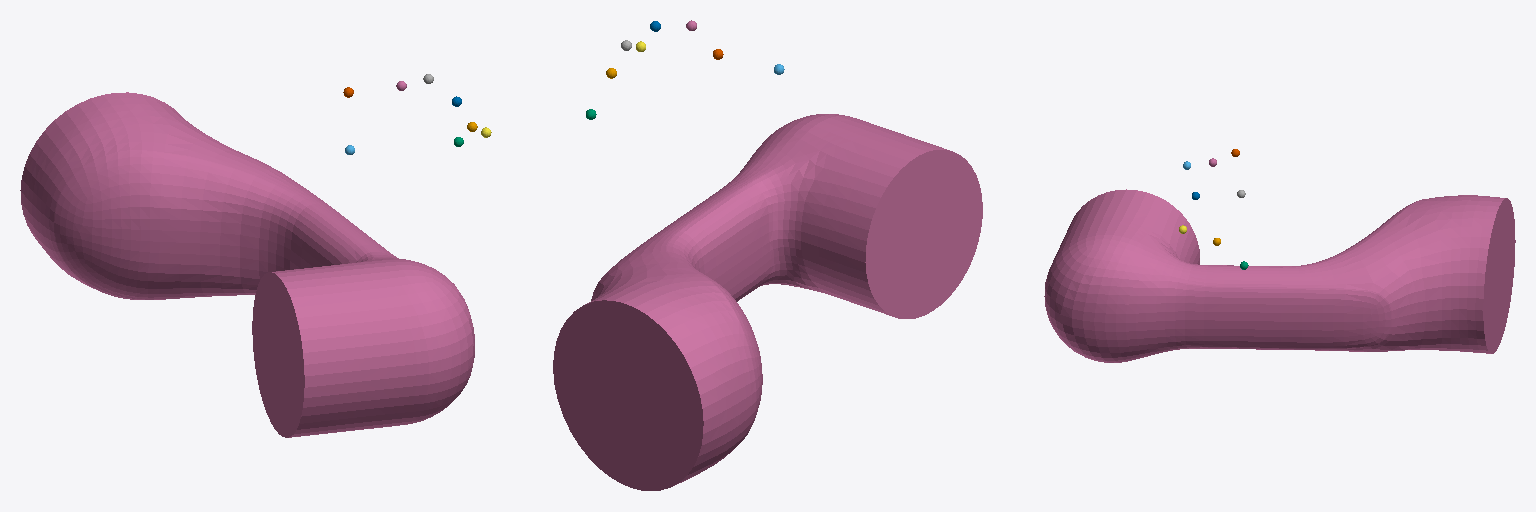
robot.urdf — fr3:
<?xml version="1.0" ?>
<!-- =================================================================================== -->
<!-- |    This document was autogenerated by xacro from fr3.urdf.xacro                 | -->
<!-- |    EDITING THIS FILE BY HAND IS NOT RECOMMENDED                                 | -->
<!-- =================================================================================== -->
<robot name="fr3">
  <!-- safety_distance: Minimum safety distance in [m] by which the collision volumes are expanded and which is enforced during robot motions -->
  <!-- arm_id: Namespace of the robot arm. Serves to differentiate between arms in case of multiple instances. -->
  <!-- joint_limits: description of the joint limits that comes from a YAML file. Example definition: ${xacro.load_yaml('$(find gentact_ros_tools)/robots/fr3/joint_limits.yaml')} -->
  <!-- kinematics: description of the kinematics that comes from a YAML file. Example definition: ${xacro.load_yaml('$(find gentact_ros_tools)/robots/fr3/kinematics.yaml')} -->
  <!-- inertials: description of the inertials that comes from a YAML file. Example definition: ${xacro.load_yaml('$(find gentact_ros_tools)/robots/fr3/inertials.yaml')} -->
  <!-- dynamics: description of the dynamics that comes from a YAML file. Example definition: ${xacro.load_yaml('$(find gentact_ros_tools)/robots/fr3/dynamics.yaml')} -->
  <link name="base">
      </link>
  <joint name="fr3_base_joint" type="fixed">
    <parent link="base"/>
    <child link="fr3_link0"/>
    <origin rpy="0 0 0" xyz="0 0 0"/>
  </joint>
  <!-- sub-link defining detailed meshes for collision with environment -->
  <link name="fr3_link0">
    <visual name="fr3_link0_visual">
      <geometry>
        <mesh filename="package://gentact_ros_tools/meshes/robot_arms/fr3/visual/link0.dae"/>
      </geometry>
    </visual>
    <collision name="fr3_link0_collision">
      <geometry>
        <mesh filename="package://gentact_ros_tools/meshes/robot_arms/fr3/collision/link0.stl"/>
      </geometry>
    </collision>
    <inertial>
      <origin rpy="0 0 0" xyz="-0.0172 0.0004 0.0745"/>
      <mass value="2.3966"/>
      <inertia ixx="0.009" ixy="0.0" ixz="0.002" iyy="0.0115" iyz="0.0" izz="0.0085"/>
    </inertial>
  </link>
  <!-- sub-link defining detailed meshes for collision with environment -->
  <link name="fr3_link1">
    <visual name="fr3_link1_visual">
      <geometry>
        <mesh filename="package://gentact_ros_tools/meshes/robot_arms/fr3/visual/link1.dae"/>
      </geometry>
    </visual>
    <collision name="fr3_link1_collision">
      <geometry>
        <mesh filename="package://gentact_ros_tools/meshes/robot_arms/fr3/collision/link1.stl"/>
      </geometry>
    </collision>
    <inertial>
      <origin rpy="0 0 0" xyz="0.0000004128 -0.0181251324 -0.0386035970"/>
      <mass value="2.9274653454"/>
      <inertia ixx="0.023927316485107913" ixy="1.3317903455714081e-05" ixz="-0.00011404774918616684" iyy="0.0224821613275756" iyz="-0.0019950320628240115" izz="0.006350098258530016"/>
    </inertial>
  </link>
  <joint name="fr3_joint1" type="revolute">
    <origin rpy="0 0 0" xyz="0 0 0.333"/>
    <parent link="fr3_link0"/>
    <child link="fr3_link1"/>
    <axis xyz="0 0 1"/>
    <limit effort="87.0" lower="-2.7437" upper="2.7437" velocity="2.62"/>
    <safety_controller k_position="100.0" k_velocity="40.0" soft_lower_limit="-2.7437" soft_upper_limit="2.7437"/>
    <dynamics D="1" K="7000" damping="0.003" friction="0.2" mu_coulomb="0" mu_viscous="16"/>
  </joint>
  <!-- sub-link defining detailed meshes for collision with environment -->
  <link name="fr3_link2">
    <visual name="fr3_link2_visual">
      <geometry>
        <mesh filename="package://gentact_ros_tools/meshes/robot_arms/fr3/visual/link2.dae"/>
      </geometry>
    </visual>
    <collision name="fr3_link2_collision">
      <geometry>
        <mesh filename="package://gentact_ros_tools/meshes/robot_arms/fr3/collision/link2.stl"/>
      </geometry>
    </collision>
    <inertial>
      <origin rpy="0 0 0" xyz="0.0031828864 -0.0743221644 0.0088146084"/>
      <mass value="2.9355370338"/>
      <inertia ixx="0.041938946257609425" ixy="0.00020257331521090626" ixz="0.004077784227179924" iyy="0.02514514885014724" iyz="-0.0042252158006570156" izz="0.06170214472888839"/>
    </inertial>
  </link>
  <joint name="fr3_joint2" type="revolute">
    <origin rpy="-1.570796326794897 0 0" xyz="0 0 0"/>
    <parent link="fr3_link1"/>
    <child link="fr3_link2"/>
    <axis xyz="0 0 1"/>
    <limit effort="87.0" lower="-1.7837" upper="1.7837" velocity="2.62"/>
    <safety_controller k_position="100.0" k_velocity="40.0" soft_lower_limit="-1.7837" soft_upper_limit="1.7837"/>
    <dynamics D="1" K="7000" damping="0.003" friction="0.2" mu_coulomb="0" mu_viscous="16"/>
  </joint>
  <!-- sub-link defining detailed meshes for collision with environment -->
  <link name="fr3_link3">
    <visual name="fr3_link3_visual">
      <geometry>
        <mesh filename="package://gentact_ros_tools/meshes/robot_arms/fr3/visual/link3.dae"/>
      </geometry>
    </visual>
    <collision name="fr3_link3_collision">
      <geometry>
        <mesh filename="package://gentact_ros_tools/meshes/robot_arms/fr3/collision/link3.stl"/>
      </geometry>
    </collision>
    <inertial>
      <origin rpy="0 0 0" xyz="0.0407015686 -0.0048200565 -0.0289730823"/>
      <mass value="2.2449013699"/>
      <inertia ixx="0.02410142547240885" ixy="0.002404694559042109" ixz="-0.002856269270114313" iyy="0.01974053266708178" iyz="-0.002104212683891874" izz="0.019044494482244823"/>
    </inertial>
  </link>
  <joint name="fr3_joint3" type="revolute">
    <origin rpy="1.570796326794897 0 0" xyz="0 -0.316 0"/>
    <parent link="fr3_link2"/>
    <child link="fr3_link3"/>
    <axis xyz="0 0 1"/>
    <limit effort="87.0" lower="-2.9007" upper="2.9007" velocity="2.62"/>
    <safety_controller k_position="100.0" k_velocity="40.0" soft_lower_limit="-2.9007" soft_upper_limit="2.9007"/>
    <dynamics D="1" K="7000" damping="0.003" friction="0.2" mu_coulomb="0" mu_viscous="16"/>
  </joint>
  <!-- sub-link defining detailed meshes for collision with environment -->
  <link name="fr3_link4">
    <visual name="fr3_link4_visual">
      <geometry>
        <mesh filename="package://gentact_ros_tools/meshes/robot_arms/fr3/visual/link4.dae"/>
      </geometry>
    </visual>
    <collision name="fr3_link4_collision">
      <geometry>
        <mesh filename="package://gentact_ros_tools/meshes/robot_arms/fr3/collision/link4.stl"/>
      </geometry>
    </collision>
    <inertial>
      <origin rpy="0 0 0" xyz="-0.0459100965 0.0630492960 -0.0085187868"/>
      <mass value="2.6155955791"/>
      <inertia ixx="0.03452998321913202" ixy="0.01322552265982813" ixz="0.01015142998484113" iyy="0.028881621933049058" iyz="-0.0009762833870704552" izz="0.04125471171146641"/>
    </inertial>
  </link>
  <joint name="fr3_joint4" type="revolute">
    <origin rpy="1.570796326794897 0 0" xyz="0.0825 0 0"/>
    <parent link="fr3_link3"/>
    <child link="fr3_link4"/>
    <axis xyz="0 0 1"/>
    <limit effort="87.0" lower="-3.0421" upper="-0.1518" velocity="2.62"/>
    <safety_controller k_position="100.0" k_velocity="40.0" soft_lower_limit="-3.0421" soft_upper_limit="-0.1518"/>
    <dynamics D="1" K="7000" damping="0.003" friction="0.2" mu_coulomb="0" mu_viscous="16"/>
  </joint>
  <!-- sub-link defining detailed meshes for collision with environment -->
  <link name="fr3_link5">
    <visual name="fr3_link5_visual">
      <geometry>
        <mesh filename="package://gentact_ros_tools/meshes/robot_arms/fr3/visual/link5.dae"/>
      </geometry>
    </visual>
    <collision name="fr3_link5_collision">
      <geometry>
        <mesh filename="package://gentact_ros_tools/meshes/robot_arms/fr3/collision/link5.stl"/>
      </geometry>
    </collision>
    <inertial>
      <origin rpy="0 0 0" xyz="-0.0016039605 0.0292536262 -0.0972965990"/>
      <mass value="2.3271207594"/>
      <inertia ixx="0.051610278463662895" ixy="-0.005715173387783472" ixz="-0.0035673167625872135" iyy="0.04787729713371481" iyz="0.010673985108535986" izz="0.016423625579357254"/>
    </inertial>
  </link>
  <joint name="fr3_joint5" type="revolute">
    <origin rpy="-1.570796326794897 0 0" xyz="-0.0825 0.384 0"/>
    <parent link="fr3_link4"/>
    <child link="fr3_link5"/>
    <axis xyz="0 0 1"/>
    <limit effort="12.0" lower="-2.8065" upper="2.8065" velocity="5.26"/>
    <safety_controller k_position="100.0" k_velocity="40.0" soft_lower_limit="-2.8065" soft_upper_limit="2.8065"/>
    <dynamics D="1" K="7000" damping="0.003" friction="0.2" mu_coulomb="0" mu_viscous="16"/>
  </joint>
  
  <!-- sub-link defining detailed meshes for collision with environment -->
  <link name="fr3_link6">
    <visual name="fr3_link6_visual">
      <geometry>
        <mesh filename="package://gentact_ros_tools/meshes/robot_arms/fr3/visual/link6.dae"/>
      </geometry>
    </visual>
    <collision name="fr3_link6_collision">
      <geometry>
        <mesh filename="package://gentact_ros_tools/meshes/robot_arms/fr3/collision/link6.stl"/>
      </geometry>
    </collision>
    <inertial>
      <origin rpy="0 0 0" xyz="0.0597131221 -0.0410294666 -0.0101692726"/>
      <mass value="1.8170376524"/>
      <inertia ixx="0.005412333594383447" ixy="0.006193456360285834" ixz="0.0014219289306117652" iyy="0.014058329545509979" iyz="-0.0013140753741120031" izz="0.016080817924212554"/>
    </inertial>
  </link>
  <joint name="fr3_joint6" type="revolute">
    <origin rpy="1.570796326794897 0 0" xyz="0 0 0"/>
    <parent link="fr3_link5"/>
    <child link="fr3_link6"/>
    <axis xyz="0 0 1"/>
    <limit effort="12.0" lower="0.5445" upper="4.5169" velocity="4.18"/>
    <safety_controller k_position="100.0" k_velocity="40.0" soft_lower_limit="0.5445" soft_upper_limit="4.5169"/>
    <dynamics D="1" K="7000" damping="0.003" friction="0.2" mu_coulomb="0" mu_viscous="16"/>
  </joint>

    <!-- Sensor links -->
  <!-- [m] -->
  <link name="fr3_link6_skin"/>
  <joint name="fr3_link6_base_joint" type="fixed">
    <origin rpy="0 0 0" xyz="0 0 0"/>
    <parent link="fr3_link6"/>
    <child link="fr3_link6_skin"/>
  </joint>
  <joint name="fr3_link6_skin_joint" type="fixed">
    <origin rpy="0 0 0" xyz="0 0 0"/>
    <parent link="fr3_link6_skin"/>
    <child link="fr3_link6_skin_inertia"/>
  </joint>
  <link name="fr3_link6_skin_inertia">
    <visual>
      <origin rpy="0 0 0" xyz="0 0 0"/>
      <geometry>
        <mesh filename="package://gentact_ros_tools/meshes/skin/link6_fancy.stl" scale="1 1 1"/>
      </geometry>
    </visual>
  </link>
  <joint name="fr3_link6_sensor_0_joint" type="fixed">
    <origin rpy="1.582 0.000 0.494" xyz="0.117 -0.045 -0.004"/>
    <axis xyz="0.474 -0.881 -0.011"/>
    <parent link="fr3_link6_skin"/>
    <child link="fr3_link6_sensor_0"/>
  </joint>
  <link name="fr3_link6_sensor_0">
    <visual>
      <geometry>
        <sphere radius="0.003"/>
        <!-- [m] -->
      </geometry>
    </visual>
    <collision>
      <geometry>
        <sphere radius="0.003"/>
        <!-- [m] -->
      </geometry>
    </collision>
  </link>
  <joint name="fr3_link6_sensor_1_joint" type="fixed">
    <origin rpy="1.451 0.000 1.101" xyz="0.133 -0.025 0.039"/>
    <axis xyz="0.885 -0.449 0.12"/>
    <parent link="fr3_link6_skin"/>
    <child link="fr3_link6_sensor_1"/>
  </joint>
  <link name="fr3_link6_sensor_1">
    <visual>
      <geometry>
        <sphere radius="0.003"/>
        <!-- [m] -->
      </geometry>
    </visual>
    <collision>
      <geometry>
        <sphere radius="0.003"/>
        <!-- [m] -->
      </geometry>
    </collision>
  </link>
  <joint name="fr3_link6_sensor_2_joint" type="fixed">
    <origin rpy="1.487 -0.000 1.464" xyz="0.140 -0.002 0.030"/>
    <axis xyz="0.991 -0.106 0.084"/>
    <parent link="fr3_link6_skin"/>
    <child link="fr3_link6_sensor_2"/>
  </joint>
  <link name="fr3_link6_sensor_2">
    <visual>
      <geometry>
        <sphere radius="0.003"/>
        <!-- [m] -->
      </geometry>
    </visual>
    <collision>
      <geometry>
        <sphere radius="0.003"/>
        <!-- [m] -->
      </geometry>
    </collision>
  </link>
  <joint name="fr3_link6_sensor_3_joint" type="fixed">
    <origin rpy="1.585 -0.000 2.644" xyz="0.113 0.047 0.002"/>
    <axis xyz="0.477 0.879 -0.015"/>
    <parent link="fr3_link6_skin"/>
    <child link="fr3_link6_sensor_3"/>
  </joint>
  <link name="fr3_link6_sensor_3">
    <visual>
      <geometry>
        <sphere radius="0.003"/>
        <!-- [m] -->
      </geometry>
    </visual>
    <collision>
      <geometry>
        <sphere radius="0.003"/>
        <!-- [m] -->
      </geometry>
    </collision>
  </link>
  <joint name="fr3_link6_sensor_4_joint" type="fixed">
    <origin rpy="1.533 -0.000 2.048" xyz="0.132 0.029 0.018"/>
    <axis xyz="0.888 0.459 0.037"/>
    <parent link="fr3_link6_skin"/>
    <child link="fr3_link6_sensor_4"/>
  </joint>
  <link name="fr3_link6_sensor_4">
    <visual>
      <geometry>
        <sphere radius="0.003"/>
        <!-- [m] -->
      </geometry>
    </visual>
    <collision>
      <geometry>
        <sphere radius="0.003"/>
        <!-- [m] -->
      </geometry>
    </collision>
  </link>
  <joint name="fr3_link6_sensor_5_joint" type="fixed">
    <origin rpy="1.581 -0.000 1.470" xyz="0.141 -0.001 -0.002"/>
    <axis xyz="0.995 -0.1 -0.01"/>
    <parent link="fr3_link6_skin"/>
    <child link="fr3_link6_sensor_5"/>
  </joint>
  <link name="fr3_link6_sensor_5">
    <visual>
      <geometry>
        <sphere radius="0.003"/>
        <!-- [m] -->
      </geometry>
    </visual>
    <collision>
      <geometry>
        <sphere radius="0.003"/>
        <!-- [m] -->
      </geometry>
    </collision>
  </link>
  <joint name="fr3_link6_sensor_6_joint" type="fixed">
    <origin rpy="1.541 -0.000 0.888" xyz="0.130 -0.033 0.015"/>
    <axis xyz="0.776 -0.631 0.03"/>
    <parent link="fr3_link6_skin"/>
    <child link="fr3_link6_sensor_6"/>
  </joint>
  <link name="fr3_link6_sensor_6">
    <visual>
      <geometry>
        <sphere radius="0.003"/>
        <!-- [m] -->
      </geometry>
    </visual>
    <collision>
      <geometry>
        <sphere radius="0.003"/>
        <!-- [m] -->
      </geometry>
    </collision>
  </link>
  <joint name="fr3_link6_sensor_7_joint" type="fixed">
    <origin rpy="1.488 0.000 -3.049" xyz="0.087 0.051 0.036"/>
    <axis xyz="-0.092 0.992 0.083"/>
    <parent link="fr3_link6_skin"/>
    <child link="fr3_link6_sensor_7"/>
  </joint>
  <link name="fr3_link6_sensor_7">
    <visual>
      <geometry>
        <sphere radius="0.003"/>
        <!-- [m] -->
      </geometry>
    </visual>
    <collision>
      <geometry>
        <sphere radius="0.003"/>
        <!-- [m] -->
      </geometry>
    </collision>
  </link>

  <!-- sub-link defining detailed meshes for collision with environment -->
  <link name="fr3_link7">
    <visual name="fr3_link7_visual">
      <geometry>
        <mesh filename="package://gentact_ros_tools/meshes/robot_arms/fr3/visual/link7.dae"/>
      </geometry>
    </visual>
    <collision name="fr3_link7_collision">
      <geometry>
        <mesh filename="package://gentact_ros_tools/meshes/robot_arms/fr3/collision/link7.stl"/>
      </geometry>
    </collision>
    <inertial>
      <origin rpy="0 0 0" xyz="0.0045225817 0.0086261921 -0.0161633251"/>
      <mass value="0.6271432862"/>
      <inertia ixx="0.00021092389150104718" ixy="-2.433299114461931e-05" ixz="4.564480393778983e-05" iyy="0.00017718568002411474" iyz="8.744070223226438e-05" izz="5.993190599659971e-05"/>
    </inertial>
  </link>
  <joint name="fr3_joint7" type="revolute">
    <origin rpy="1.570796326794897 0 0" xyz="0.088 0 0"/>
    <parent link="fr3_link6"/>
    <child link="fr3_link7"/>
    <axis xyz="0 0 1"/>
    <limit effort="12.0" lower="-3.0159" upper="3.0159" velocity="5.26"/>
    <safety_controller k_position="100.0" k_velocity="40.0" soft_lower_limit="-3.0159" soft_upper_limit="3.0159"/>
    <dynamics D="1" K="7000" damping="0.003" friction="0.2" mu_coulomb="0" mu_viscous="16"/>
  </joint>
</robot>

--- Facts derived from the render (not from the file) ---
3 views of the same robot in one strip: view 1: azimuth 30°, elevation 25°; view 2: azimuth 150°, elevation 25°; view 3: azimuth 270°, elevation 25° (orthographic).
Model fr3 with 19 links and 18 joints (7 revolute, 11 fixed), rooted at base, posed joints at zero except 2 at the middle of their limits (fr3_joint4 = -1.6, fr3_joint6 = 2.53).
Visible links, largest first — view 1: fr3_link5; view 2: fr3_link5; view 3: fr3_link5.
Boxes of the visible links, box(x1,y1,x2,y2) form: fr3_link5: box(20, 92, 474, 437); fr3_link5: box(553, 114, 982, 490); fr3_link5: box(1044, 189, 1515, 362).
Bounding box of the posed robot: 0.189 × 0.3302 × 0.1812 m (x, y, z).
Meshes: 9 distinct files referenced, 1 mesh visuals loaded (1 Collada DAE); not drawn: 8 (reference not matched to a file when rendering).